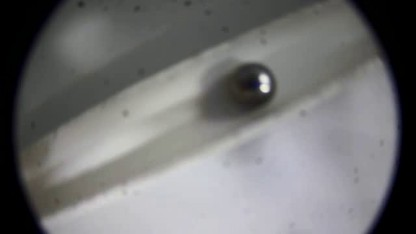gangzhu: (222, 60, 279, 111)
